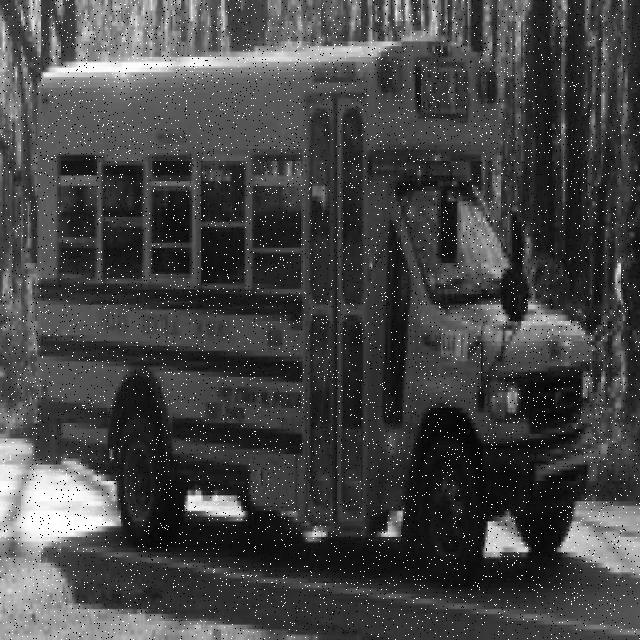Bus- Small: (29, 39, 613, 591)
